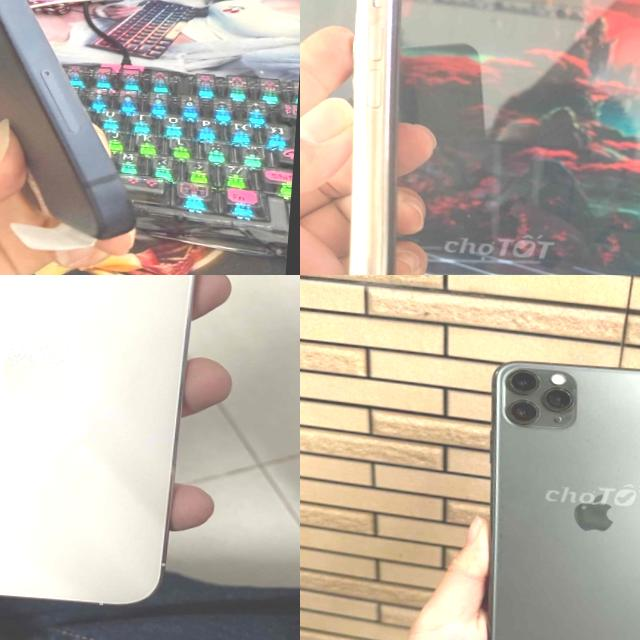scratch: (374, 0, 411, 164), (502, 362, 580, 428)
